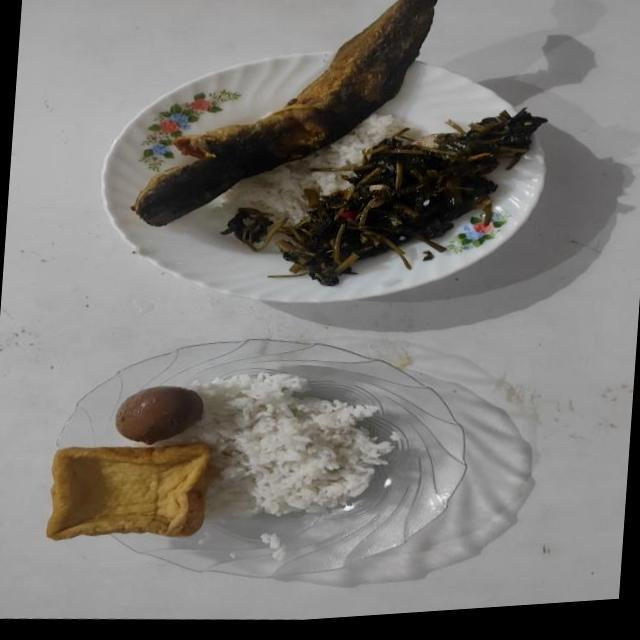nasi_putih: (190, 372, 393, 516), (213, 114, 406, 225)
tahu_goreng: (46, 444, 210, 540)
tumis_kangkung: (220, 109, 546, 286)
